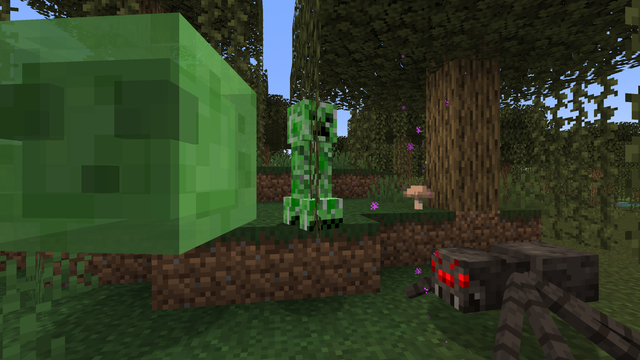araignees: (410, 229, 633, 357)
creepers: (288, 92, 337, 229)
slimes: (8, 6, 246, 256)
